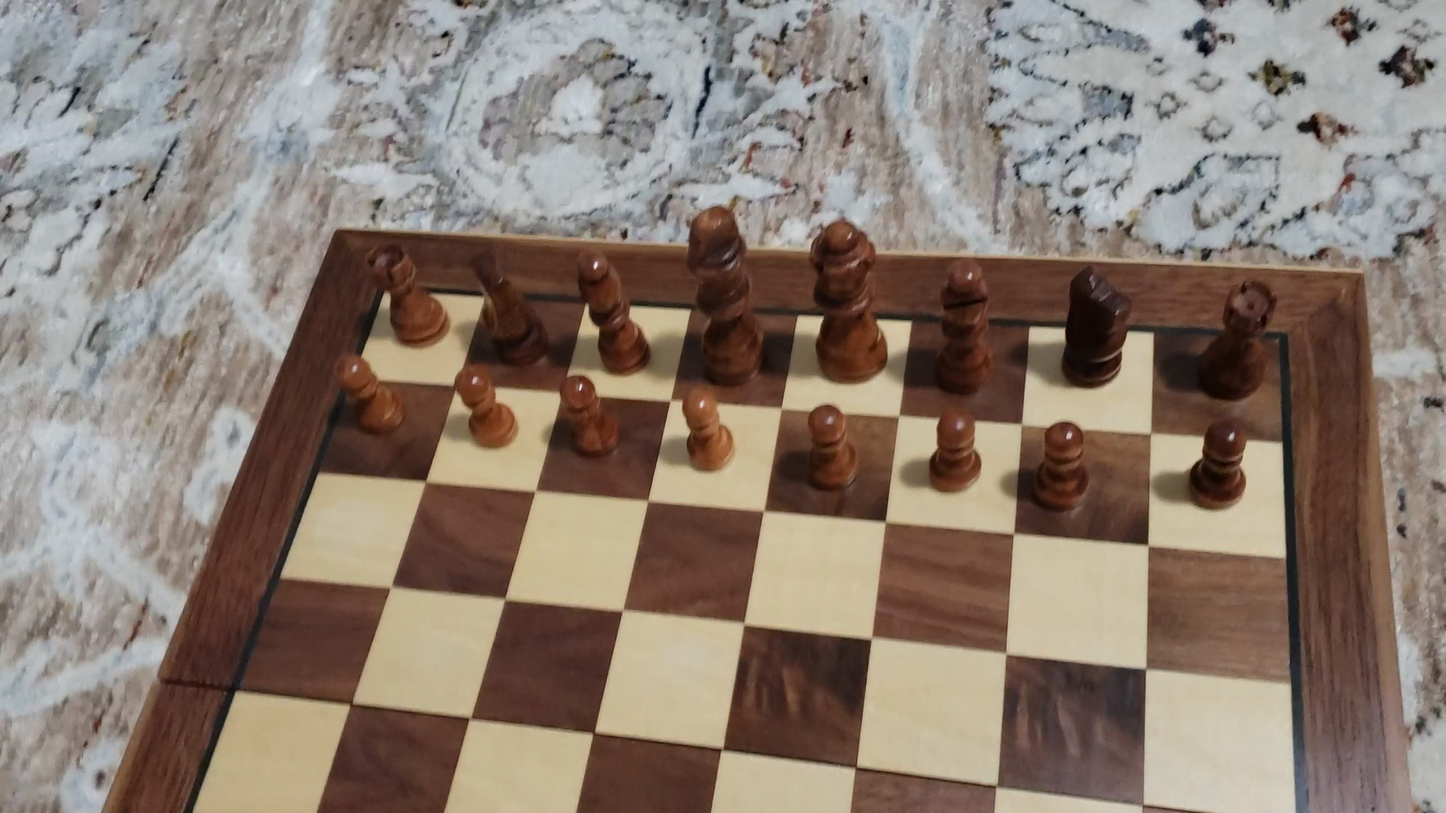black-bishop: (575, 248, 652, 375), (935, 257, 994, 394)
black-king: (682, 199, 768, 388)
black-knight: (468, 246, 550, 366), (1058, 265, 1134, 387)
black-pawn: (334, 352, 408, 437), (1187, 416, 1252, 512), (1029, 418, 1093, 515), (555, 372, 622, 460), (452, 366, 519, 452), (804, 400, 861, 495), (926, 404, 983, 496), (680, 383, 735, 475)
black-queen: (804, 216, 890, 384)
black-rook: (1194, 278, 1278, 402), (364, 241, 449, 346)
